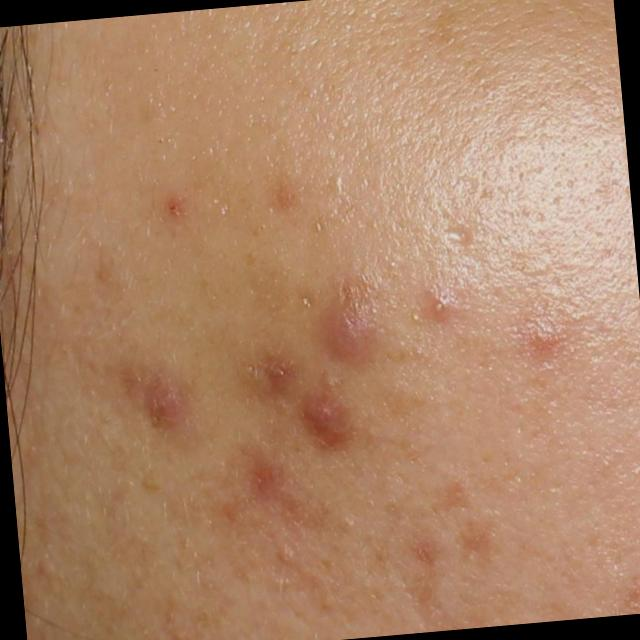nodule: (316, 296, 382, 374), (292, 384, 362, 456)
